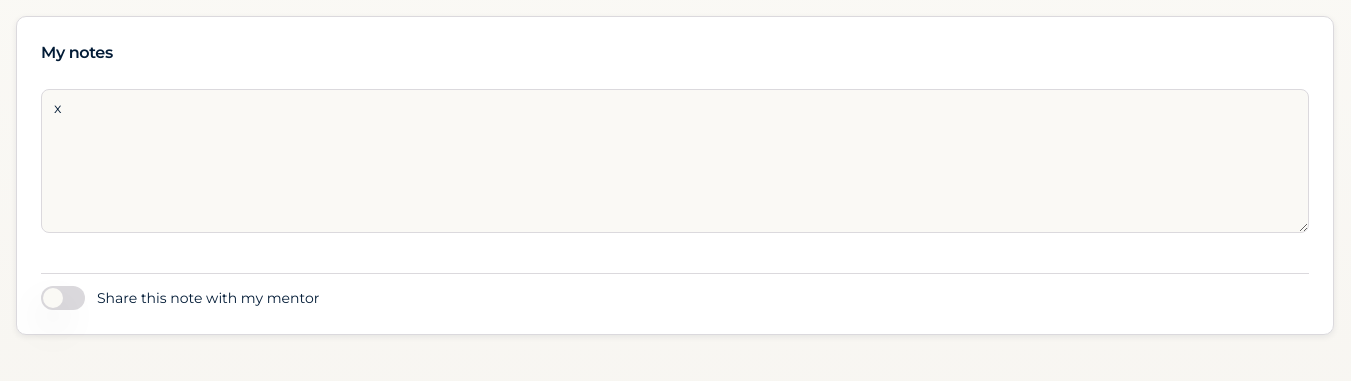
NotesPanel › shows a plain message when the account has no mentor
Click the switch at (63, 298), box left=41, top=286, right=85, bottom=310
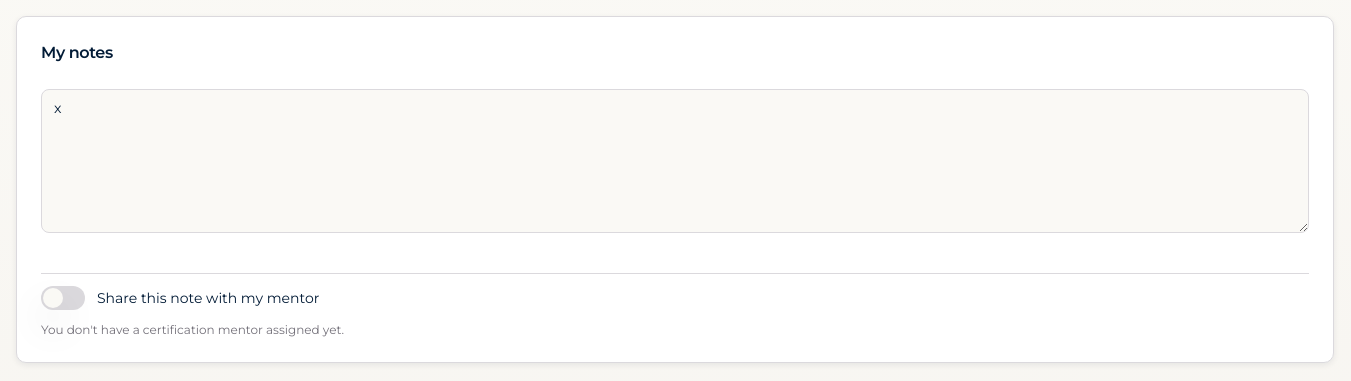
Now the text "You don't have a certification mentor assigned yet." is shown, box left=41, top=322, right=344, bottom=337
